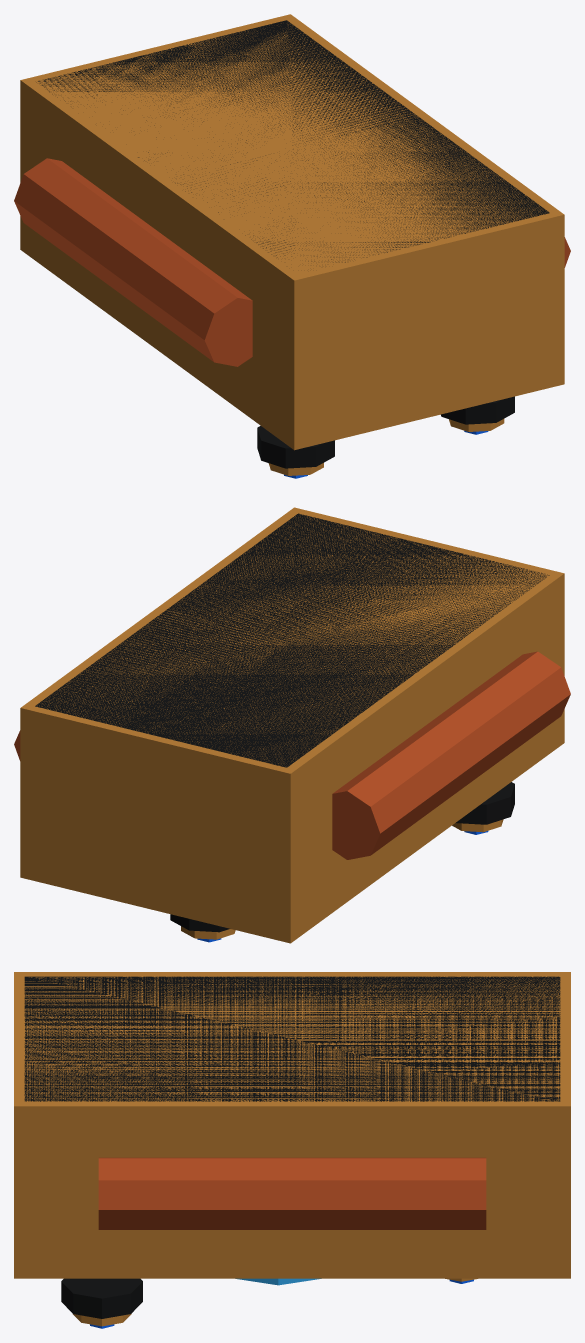
File: SM_Gnome_AetherTek_PowerNexus_FuelCell_01_LOD2.obj
3 renders of one model, top to bottom at view 1: azimuth 30°, elevation 25°; view 2: azimuth 150°, elevation 25°; view 3: azimuth 270°, elevation 25°, orthographic.
Visible parts, largest first — view 1: Brass_Collar_Block, Housing_DarkIron_SimplifiedBody, SideCapacitor_-25_LowTube, HardpointSocket_LeftPowerRoute_DarkIronSocketCup, HardpointSocket_RightPowerRoute_DarkIronSocketCup; view 2: Brass_Collar_Block, Housing_DarkIron_SimplifiedBody, SideCapacitor_-25_LowTube, HardpointSocket_LeftPowerRoute_DarkIronSocketCup; view 3: Brass_Collar_Block, Housing_DarkIron_SimplifiedBody, SideCapacitor_25_LowTube, HardpointSocket_RightPowerRoute_DarkIronSocketCup.
Boxes of the visible parts, <box> form: Brass_Collar_Block: <box>20,14,564,450</box>; Housing_DarkIron_SimplifiedBody: <box>36,20,549,262</box>; SideCapacitor_-25_LowTube: <box>14,158,252,366</box>; HardpointSocket_LeftPowerRoute_DarkIronSocketCup: <box>257,426,334,468</box>; HardpointSocket_RightPowerRoute_DarkIronSocketCup: <box>441,396,514,424</box>; Brass_Collar_Block: <box>20,507,564,943</box>; Housing_DarkIron_SimplifiedBody: <box>35,513,549,767</box>; SideCapacitor_-25_LowTube: <box>332,651,570,859</box>; HardpointSocket_LeftPowerRoute_DarkIronSocketCup: <box>456,782,514,824</box>; Brass_Collar_Block: <box>14,972,570,1278</box>; Housing_DarkIron_SimplifiedBody: <box>24,976,560,1101</box>; SideCapacitor_25_LowTube: <box>98,1157,486,1229</box>; HardpointSocket_RightPowerRoute_DarkIronSocketCup: <box>61,1278,142,1318</box>.
Bounding box in the file's own units: 61 × 37.4 × 79.
